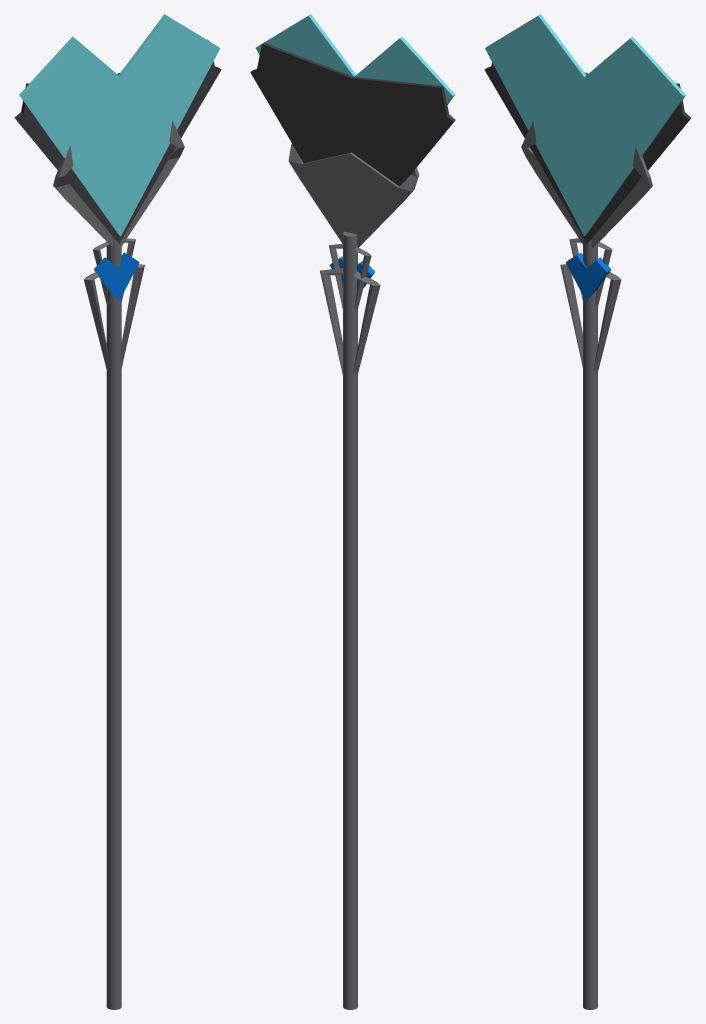
File: Wand_Black_1.fbx
3 renders of one model, left to right at view 1: azimuth 30°, elevation 25°; view 2: azimuth 150°, elevation 25°; view 3: azimuth 330°, elevation 25°, orthographic.
Visible parts, largest first — view 1: Cube, Cylinder.000, Cube.001, Cube.002, Torus.001, Cube.003; view 2: Cube.001, Cylinder.000, Cube.002, Cube, Torus.001, Torus.002; view 3: Cube, Cylinder.000, Cube.001, Cube.002, Torus.001, Cube.003.
Boxes of the visible parts, x1=… form: Cube: x1=19, y1=14, x2=220, y2=236; Cylinder.000: x1=106, y1=237, x2=121, y2=1009; Cube.001: x1=14, y1=39, x2=221, y2=243; Cube.002: x1=53, y1=121, x2=184, y2=246; Torus.001: x1=84, y1=264, x2=144, y2=372; Cube.003: x1=94, y1=252, x2=139, y2=301; Cube.001: x1=250, y1=42, x2=455, y2=186; Cylinder.000: x1=343, y1=231, x2=357, y2=1009; Cube.002: x1=288, y1=144, x2=419, y2=247; Cube: x1=255, y1=14, x2=455, y2=104; Torus.001: x1=320, y1=268, x2=380, y2=377; Torus.002: x1=329, y1=243, x2=371, y2=312; Cube: x1=485, y1=14, x2=685, y2=236; Cylinder.000: x1=583, y1=238, x2=597, y2=1009; Cube.001: x1=484, y1=62, x2=691, y2=243; Cube.002: x1=521, y1=121, x2=652, y2=248; Torus.001: x1=560, y1=264, x2=621, y2=375; Cube.003: x1=565, y1=253, x2=611, y2=301.
Size of the model in its own units: 200 by 921 by 17.66.
